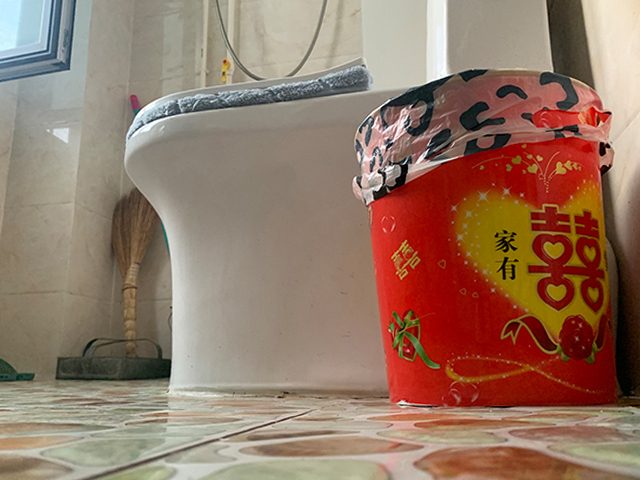closestool: (123, 1, 555, 397)
trashcan: (352, 68, 623, 410)
